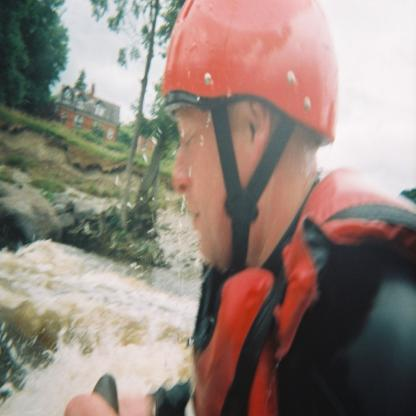Helmet: (158, 0, 342, 270)
